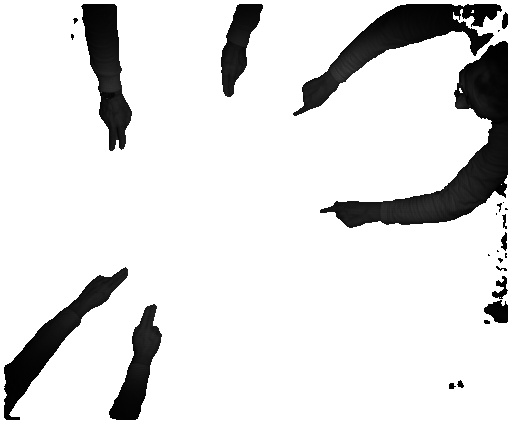hand: (75, 264, 127, 313), (131, 304, 167, 363), (288, 76, 334, 119), (100, 95, 135, 151), (216, 49, 247, 103), (320, 200, 373, 231)
